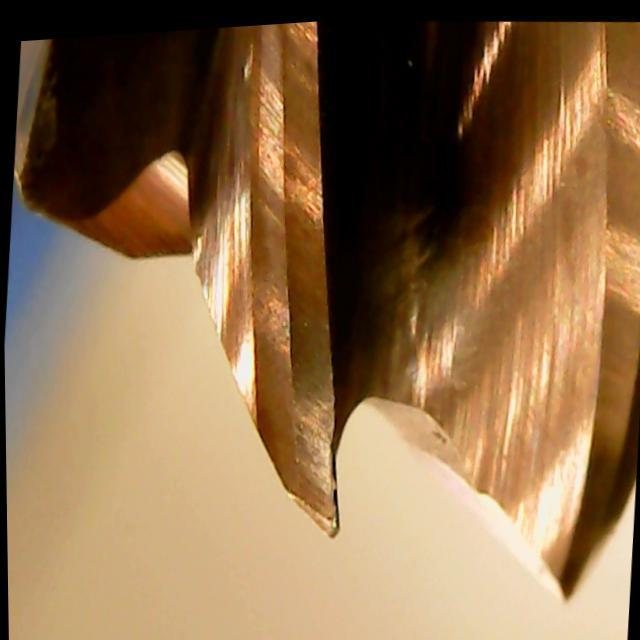Tool-wear-class-1: (232, 287, 376, 546)
